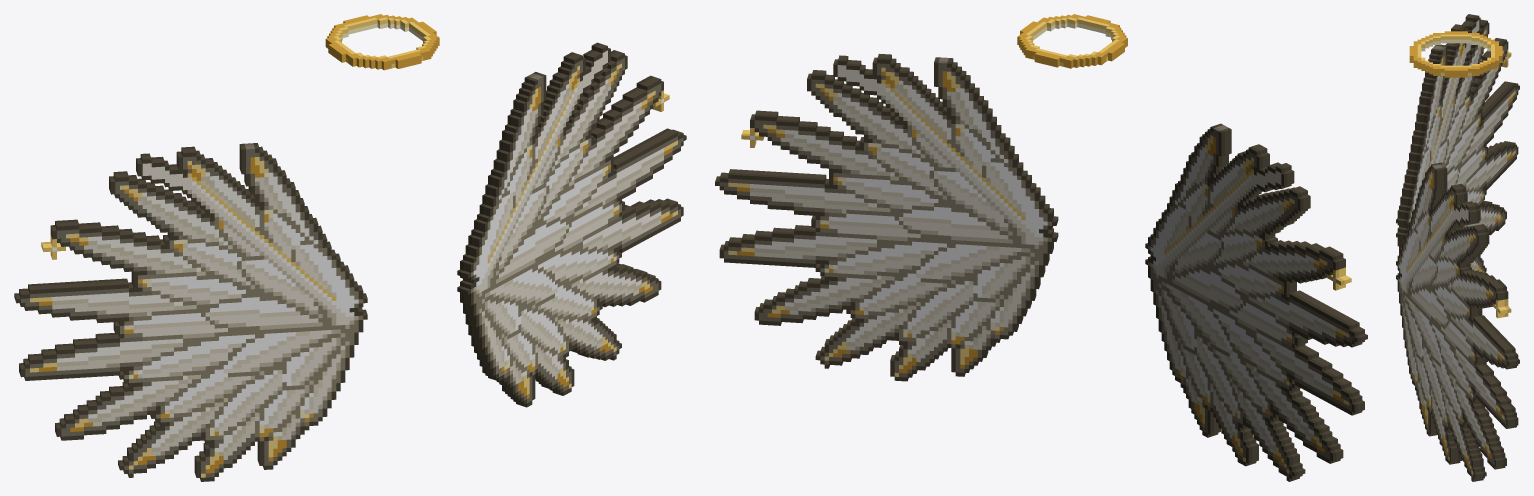
The model's file is seraph_wings.glb.
The picture shows the model from 3 angles, left to right: view 1: azimuth 30°, elevation 25°; view 2: azimuth 150°, elevation 25°; view 3: azimuth 270°, elevation 25°; orthographic projection. The views are drawn at different scales.
Parts seen in each view (by area): view 1: Seraph Wing Left, Seraph Wing Right, Halo; view 2: Seraph Wing Right, Seraph Wing Left, Halo; view 3: Seraph Wing Right, Seraph Wing Left, Halo.
Part boxes in pixels (box(x1,y1,x2,y2)): Seraph Wing Left: box(14, 143, 367, 481); Seraph Wing Right: box(457, 42, 686, 407); Halo: box(325, 14, 439, 70); Seraph Wing Right: box(715, 53, 1058, 381); Seraph Wing Left: box(1145, 123, 1367, 481); Halo: box(1017, 14, 1127, 68); Seraph Wing Right: box(1396, 162, 1519, 481); Seraph Wing Left: box(1396, 14, 1519, 272); Halo: box(1409, 31, 1502, 77).
Size of the model in its own units: 2.66 by 1.5 by 0.5.
1 material, 1 textured.
